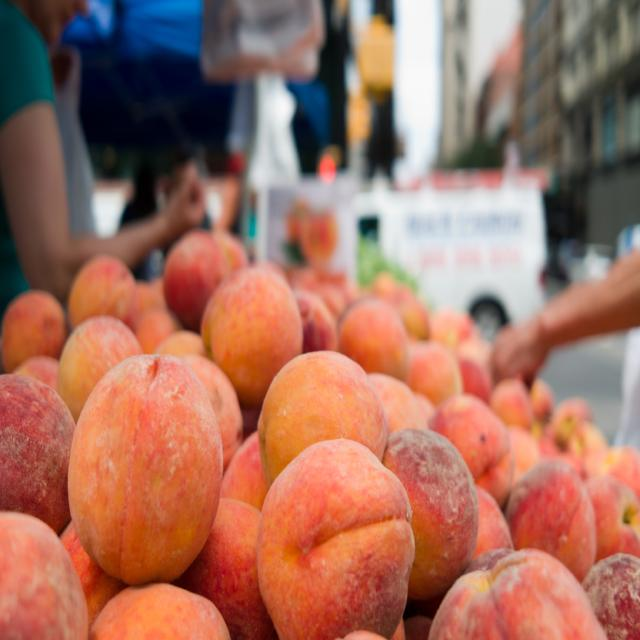Peach: (0, 228, 640, 640)
